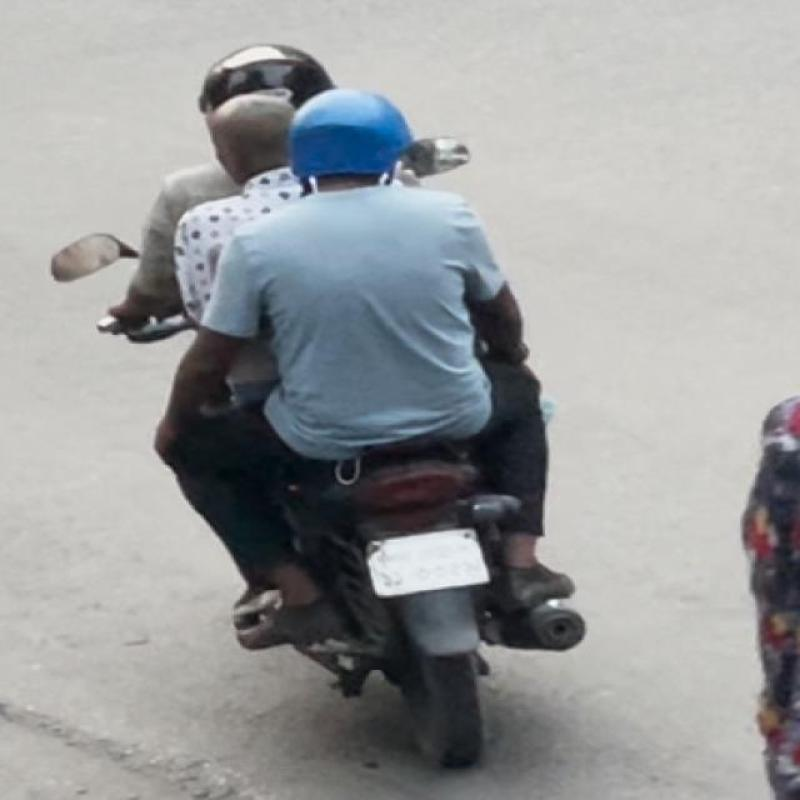nohelmet: (196, 99, 292, 187)
